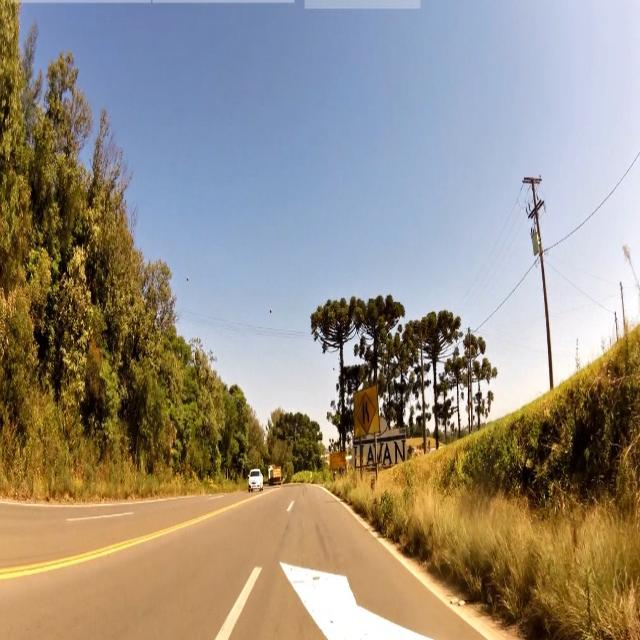A-21c: (356, 388, 379, 432)
